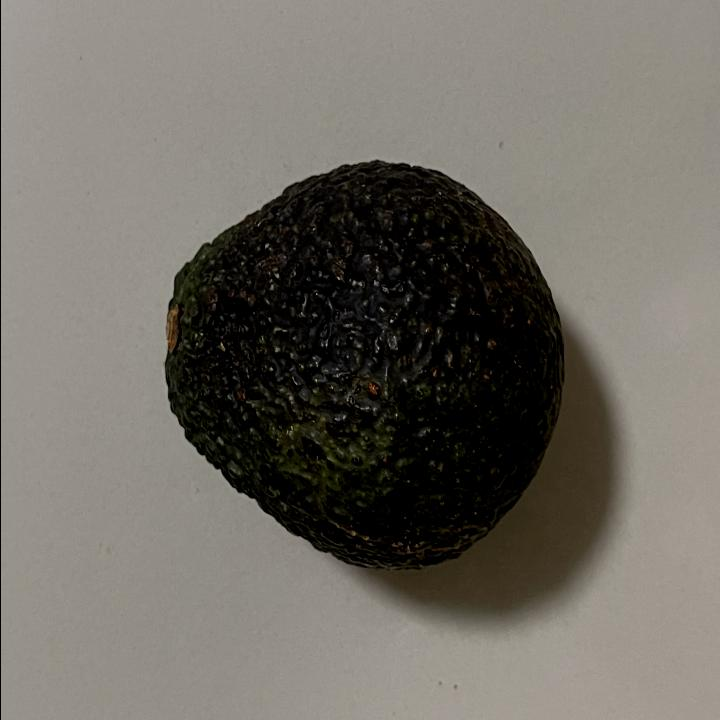Level1: (139, 140, 582, 586)
